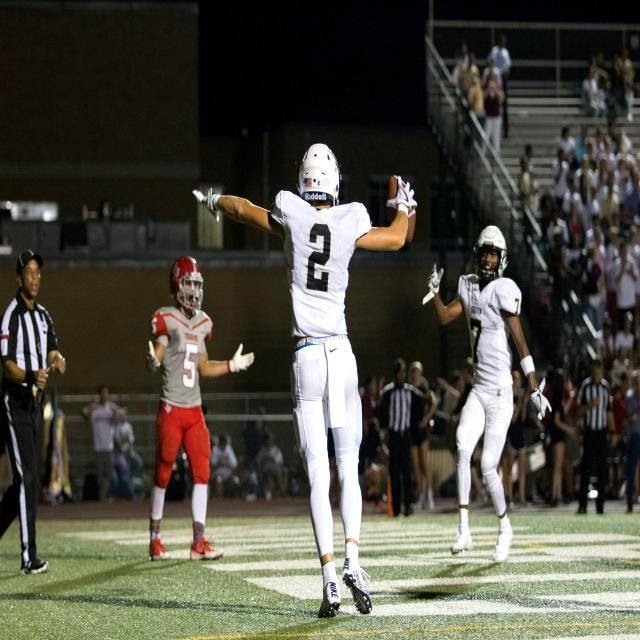no_hard_hat: (299, 143, 340, 205), (169, 256, 200, 284), (475, 225, 507, 252)
no_head_wear: (17, 250, 43, 302)
person: (268, 144, 372, 617), (450, 226, 538, 562), (148, 257, 222, 560), (0, 250, 65, 574)
